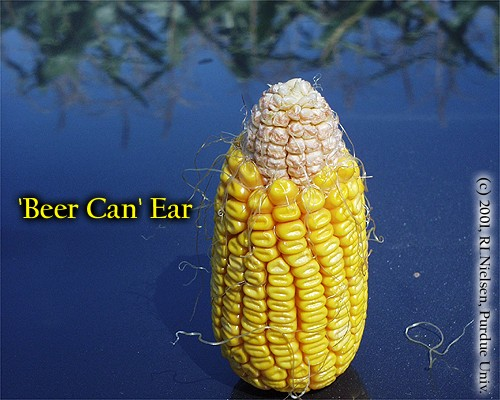corn: (210, 76, 369, 389)
